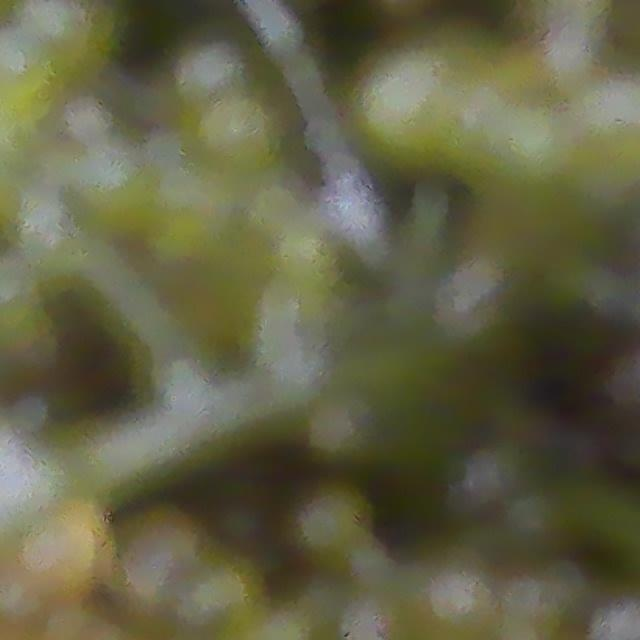SeaGrape: (336, 40, 465, 176), (194, 85, 291, 179), (28, 512, 113, 606), (290, 480, 372, 565), (210, 496, 269, 554)
